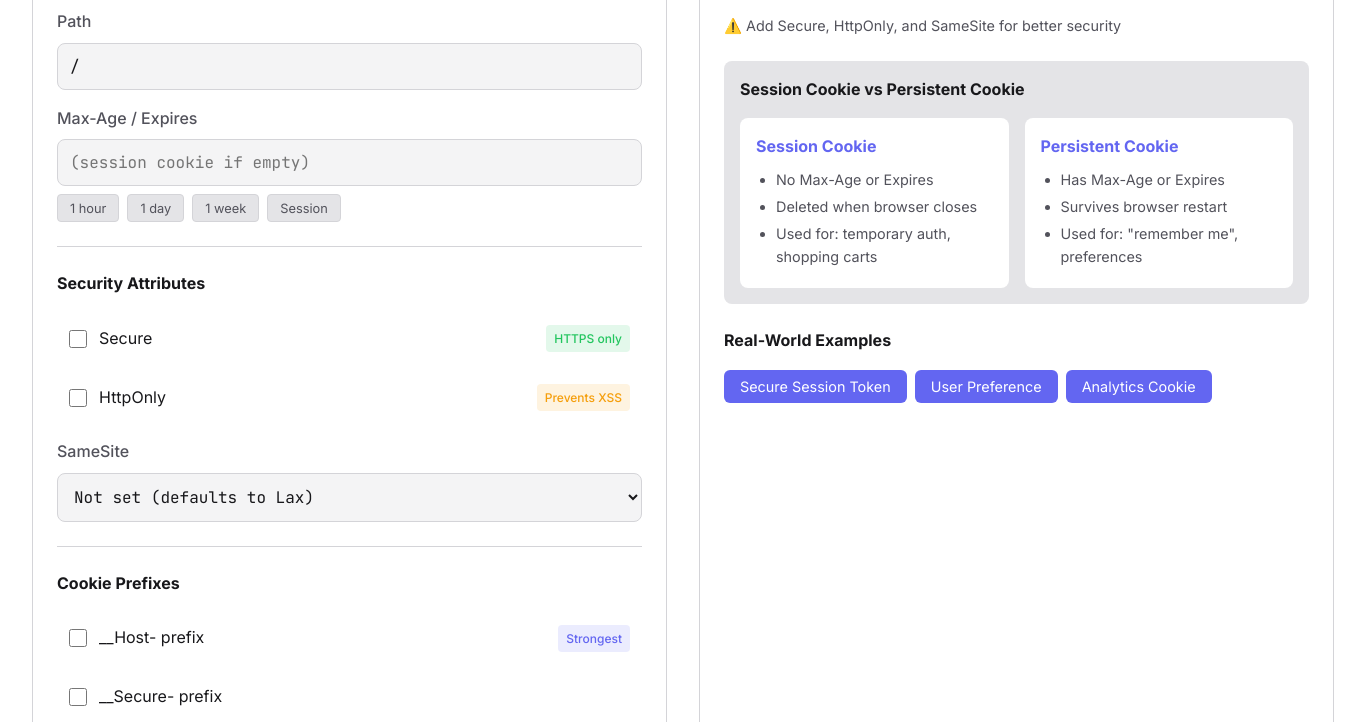
Scenario: CookieAnatomy › displays explanation for each attribute when hovered
The image size is (1366, 722).
(page scrolled)
Hover over the text "Secure HTTPS only" at point(126, 338), box [69,325,630,352]
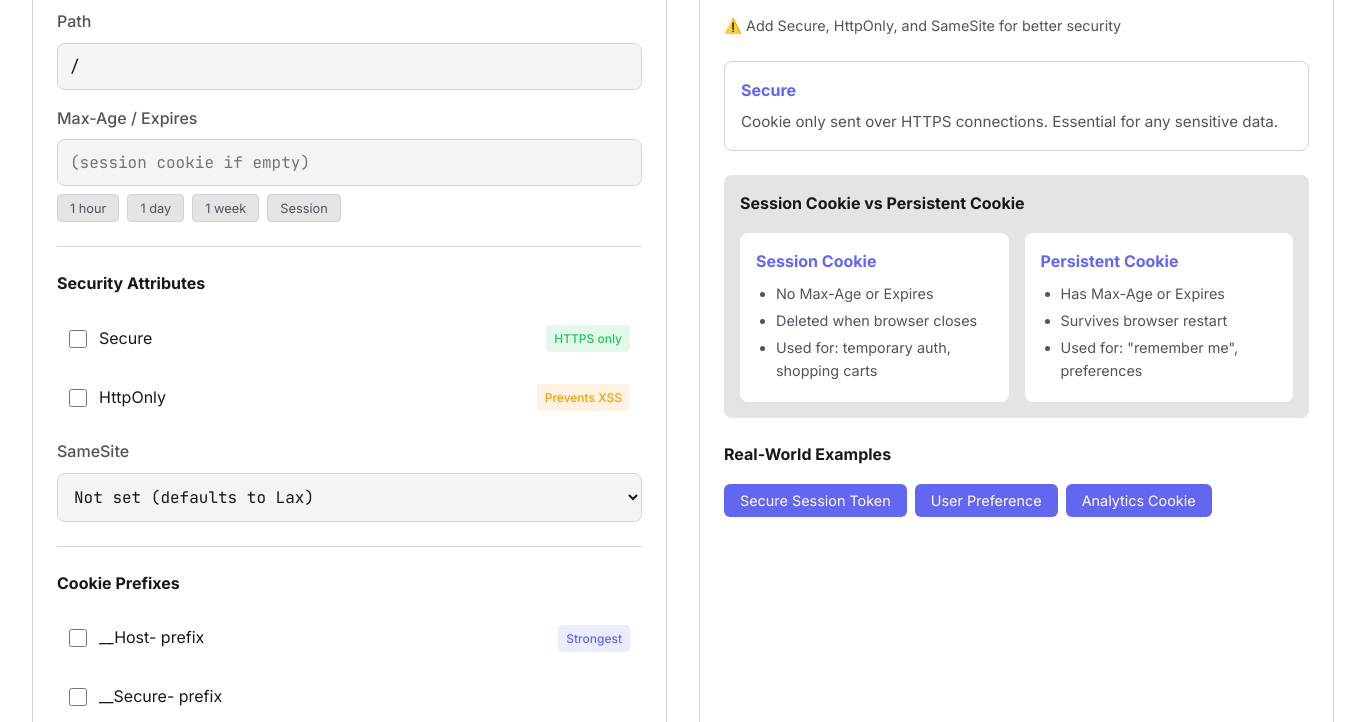
Result: the tooltip is shown at [724,61,1309,151]
